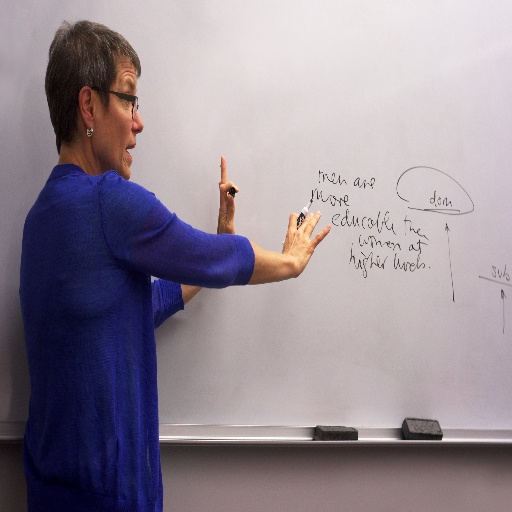hand: (283, 205, 333, 268), (215, 153, 238, 232)
